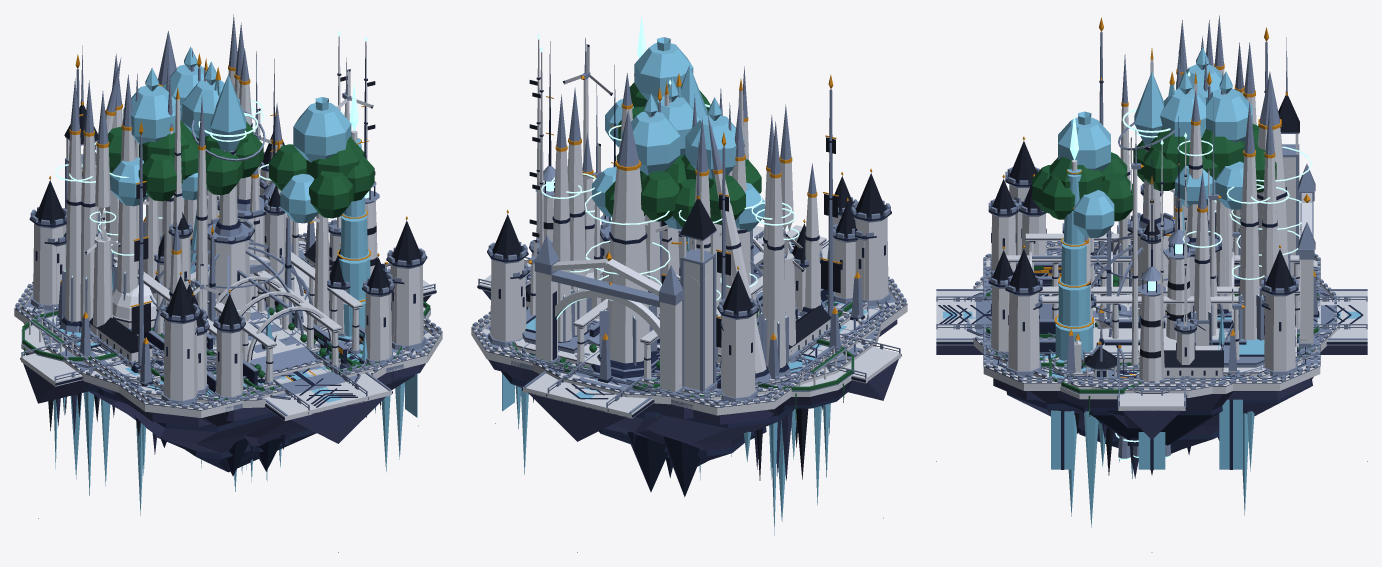
Rendered from SC_RECOLOR_UNMOORING.fbx.
3 views of the same model, side by side, from view 1: azimuth 30°, elevation 25°; view 2: azimuth 150°, elevation 25°; view 3: azimuth 270°, elevation 25° (orthographic). The views are drawn at different scales.
Visible parts, largest first — view 1: chunk_spire_court__unmooring, chunk_sky_tree_grove__unmooring, chunk_boss_clearing__unmooring, chunk_path_colonnade__unmooring, chunk_aether_springs__unmooring, chunk_parade_ground__unmooring, chunk_spire_court_b__unmooring, chunk_path_straight__unmooring, chunk_side_garden__unmooring, chunk_archive__unmooring, chunk_entry__unmooring, chunk_garden_terrace__unmooring (+19 smaller); view 2: chunk_spire_court__unmooring, chunk_boss_clearing__unmooring, chunk_garden_terrace__unmooring, chunk_archive__unmooring, chunk_sky_tree_grove__unmooring, chunk_parade_ground__unmooring, chunk_path_colonnade__unmooring, chunk_armory__unmooring, chunk_spire_court_b__unmooring, chunk_aether_springs__unmooring, chunk_path_long_span__unmooring, chunk_entry__unmooring (+14 smaller); view 3: chunk_spire_court__unmooring, chunk_boss_clearing__unmooring, chunk_aether_springs__unmooring, chunk_garden_terrace__unmooring, chunk_sky_tree_grove__unmooring, chunk_armory__unmooring, chunk_archive__unmooring, chunk_parade_ground__unmooring, chunk_side_garden__unmooring, chunk_spire_court_b__unmooring, chunk_crossroads__unmooring, chunk_path_bend_west__unmooring (+17 smaller).
Boxes of the visible parts, left/top/right/bottom form: chunk_spire_court__unmooring: left=14, top=22, right=442, bottom=472; chunk_sky_tree_grove__unmooring: left=107, top=67, right=402, bottom=473; chunk_boss_clearing__unmooring: left=37, top=31, right=406, bottom=443; chunk_path_colonnade__unmooring: left=38, top=78, right=360, bottom=479; chunk_aether_springs__unmooring: left=20, top=83, right=425, bottom=552; chunk_parade_ground__unmooring: left=20, top=14, right=436, bottom=426; chunk_spire_court_b__unmooring: left=52, top=57, right=403, bottom=471; chunk_path_straight__unmooring: left=163, top=95, right=333, bottom=399; chunk_side_garden__unmooring: left=151, top=61, right=356, bottom=403; chunk_archive__unmooring: left=64, top=45, right=393, bottom=421; chunk_entry__unmooring: left=109, top=74, right=352, bottom=382; chunk_garden_terrace__unmooring: left=21, top=46, right=430, bottom=495; chunk_spire_court__unmooring: left=471, top=87, right=907, bottom=465; chunk_boss_clearing__unmooring: left=508, top=110, right=884, bottom=415; chunk_garden_terrace__unmooring: left=560, top=93, right=854, bottom=505; chunk_archive__unmooring: left=520, top=142, right=851, bottom=435; chunk_sky_tree_grove__unmooring: left=512, top=37, right=852, bottom=418; chunk_parade_ground__unmooring: left=477, top=94, right=901, bottom=424; chunk_path_colonnade__unmooring: left=552, top=121, right=811, bottom=521; chunk_armory__unmooring: left=525, top=132, right=869, bottom=497; chunk_spire_court_b__unmooring: left=511, top=38, right=869, bottom=491; chunk_aether_springs__unmooring: left=489, top=14, right=901, bottom=552; chunk_path_long_span__unmooring: left=515, top=74, right=864, bottom=477; chunk_entry__unmooring: left=559, top=104, right=830, bottom=406; chunk_spire_court__unmooring: left=983, top=42, right=1367, bottom=453; chunk_boss_clearing__unmooring: left=936, top=71, right=1336, bottom=398; chunk_aether_springs__unmooring: left=936, top=112, right=1367, bottom=552; chunk_garden_terrace__unmooring: left=984, top=71, right=1321, bottom=527; chunk_sky_tree_grove__unmooring: left=990, top=47, right=1312, bottom=367; chunk_armory__unmooring: left=936, top=27, right=1367, bottom=445; chunk_archive__unmooring: left=936, top=37, right=1367, bottom=360; chunk_parade_ground__unmooring: left=942, top=103, right=1365, bottom=399; chunk_side_garden__unmooring: left=947, top=71, right=1215, bottom=328; chunk_spire_court_b__unmooring: left=984, top=130, right=1319, bottom=439; chunk_crossroads__unmooring: left=937, top=71, right=1367, bottom=439; chunk_path_bend_west__unmooring: left=1096, top=159, right=1190, bottom=395.
Size of the model in its own units: 256 by 256 by 256.
